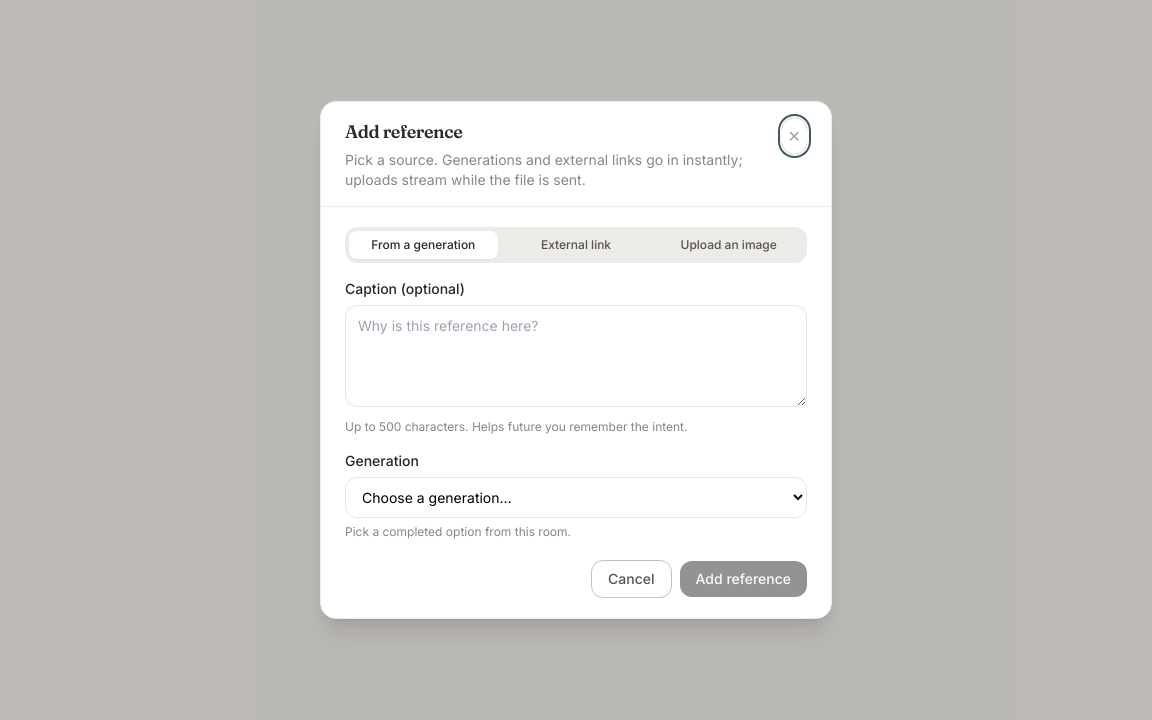
<AddReferenceModal /> › switches tabs on click
The image size is (1152, 720).
What coordinates should you click on to do the following:
click the tab "External link"
I would click on:
 (576, 245)
Its box is [502, 231, 650, 259].
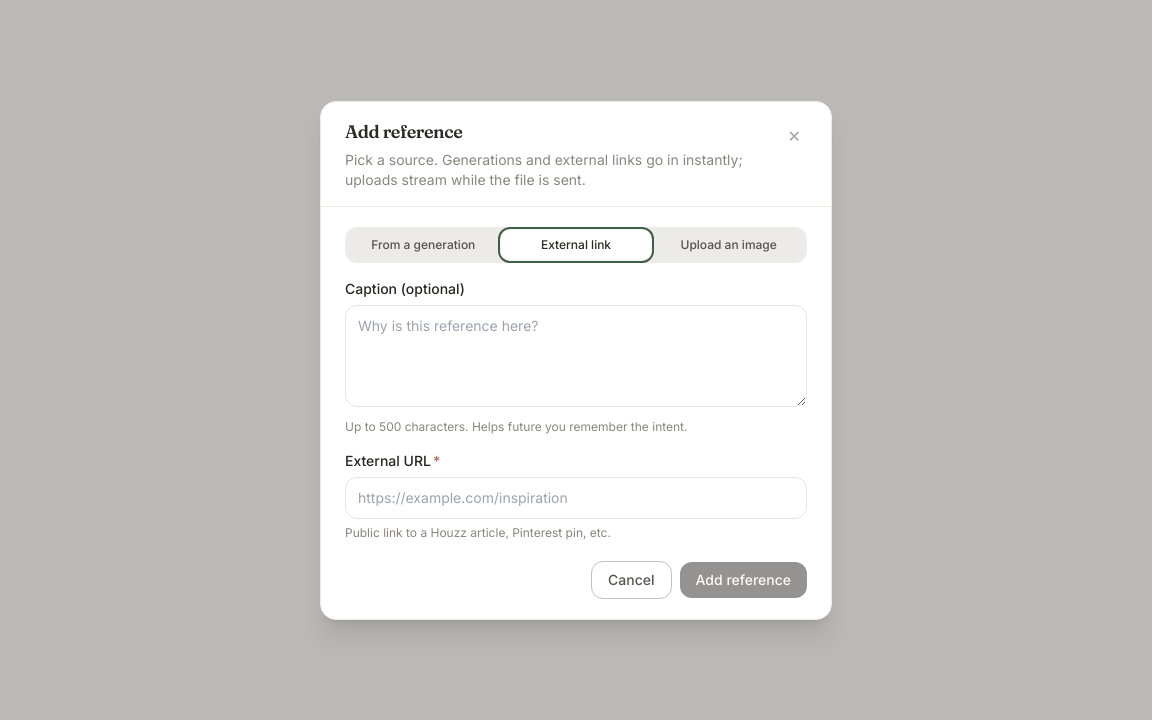
Expected: the field labelled "External URL*" is shown, [345, 476, 807, 518]
